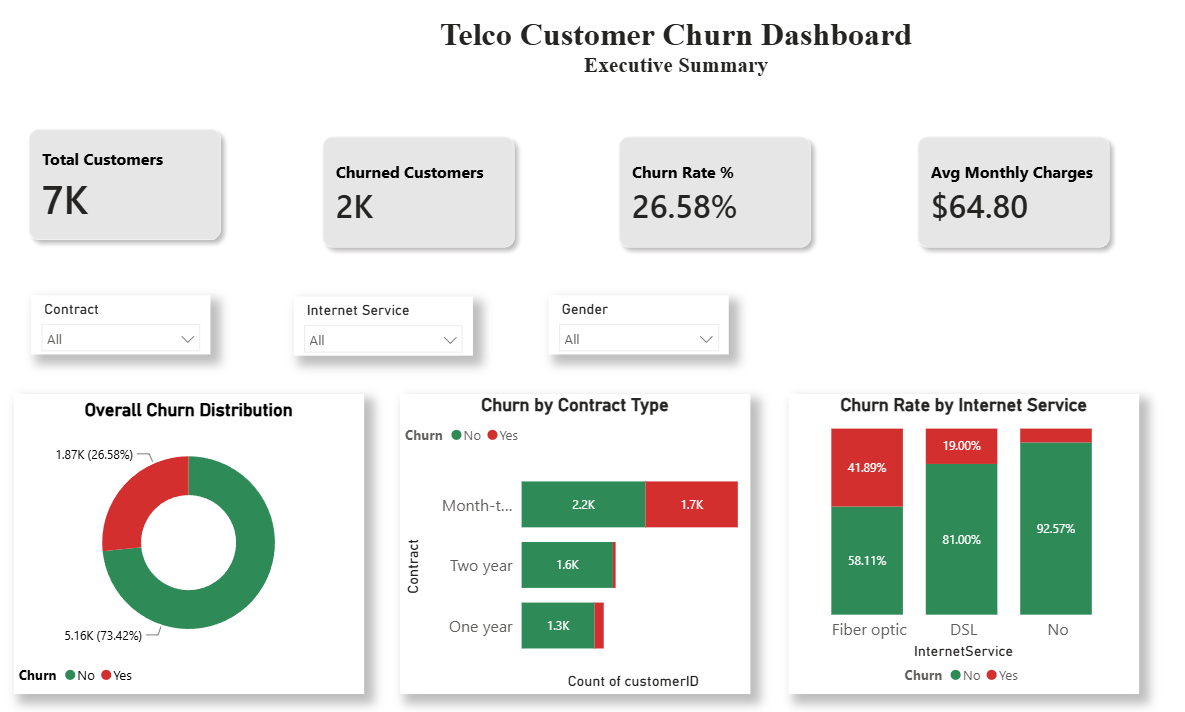

Layout of this report page (visuals, bound fields, positions):
{"tool":"powerbi","page":{"name":"Executive Dashboard","canvas":[1280,720],"ordinal":0},"visuals":[{"type":"cardVisual","fields":{"Data":["telco_churn_clean.Total Customers"]},"box":[0,105.8,250,169.8],"z":0},{"type":"cardVisual","fields":{"Data":["telco_churn_clean.Churned Customers"]},"box":[294.2,114,250,169.8],"z":1000},{"type":"cardVisual","fields":{"Data":["telco_churn_clean.Churn Rate %"]},"box":[589.5,114,250,169.8],"z":2000},{"type":"cardVisual","fields":{"Data":["telco_churn_clean.Avg Monthly Charges"]},"box":[888.4,114,250,169.8],"z":3000},{"type":"donutChart","title":"Overall Churn Distribution","fields":{"Category":["telco_churn_clean.Churn"],"Y":["Count(telco_churn_clean.customerID)"]},"box":[13.3,400,350,300],"z":4000},{"type":"barChart","title":"Churn by Contract Type","fields":{"Category":["telco_churn_clean.Contract"],"Y":["Count(telco_churn_clean.customerID)"],"Series":["telco_churn_clean.Churn"]},"box":[400,400,350,300],"z":5000},{"type":"hundredPercentStackedColumnChart","title":"Churn Rate by Internet Service","fields":{"Category":["telco_churn_clean.InternetService"],"Y":["Count(telco_churn_clean.customerID)"],"Series":["telco_churn_clean.Churn"]},"box":[788.3,400,350,300],"z":6000},{"type":"slicer","fields":{"Values":["telco_churn_clean.Contract"]},"box":[31.4,301.2,179.1,59.3],"z":7000},{"type":"slicer","fields":{"Values":["telco_churn_clean.InternetService"]},"box":[294.2,302.3,179.1,59.3],"z":8000},{"type":"slicer","title":"Gender","fields":{"Values":["telco_churn_clean.gender"]},"box":[548.8,301.2,180.2,59.3],"z":9000},{"type":"textbox","box":[348.8,16.3,654.7,89.5],"z":10000}]}

Visuals, with their boxes on the page's 1280x720 design canvas (x1, y1, x2, y2). These are canvas units, not pixel positions in the 1185x712 screenshot, which may show the page scaled, cropped or inside an application window:
cardVisual - telco_churn_clean.Total Customers: left=0, top=106, right=250, bottom=276
cardVisual - telco_churn_clean.Churned Customers: left=294, top=114, right=544, bottom=284
cardVisual - telco_churn_clean.Churn Rate %: left=590, top=114, right=840, bottom=284
cardVisual - telco_churn_clean.Avg Monthly Charges: left=888, top=114, right=1138, bottom=284
"Overall Churn Distribution" donutChart: left=13, top=400, right=363, bottom=700
"Churn by Contract Type" barChart: left=400, top=400, right=750, bottom=700
"Churn Rate by Internet Service" hundredPercentStackedColumnChart: left=788, top=400, right=1138, bottom=700
slicer - telco_churn_clean.Contract: left=31, top=301, right=210, bottom=360
slicer - telco_churn_clean.InternetService: left=294, top=302, right=473, bottom=362
"Gender" slicer: left=549, top=301, right=729, bottom=360
textbox: left=349, top=16, right=1004, bottom=106
